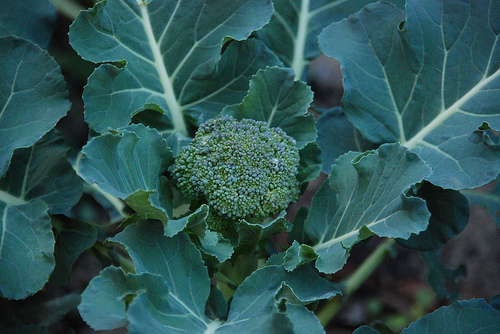broccoli: (170, 117, 302, 221)
